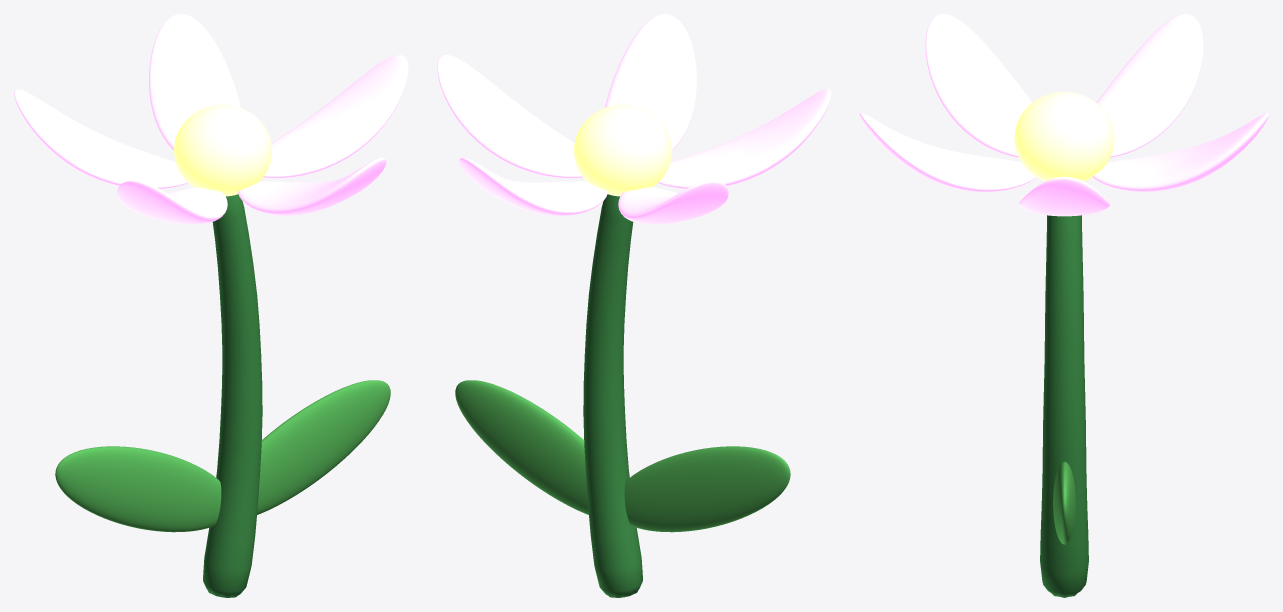
Rendered from star_bloom.glb.
3 renders of one model, left to right at view 1: azimuth 30°, elevation 25°; view 2: azimuth 150°, elevation 25°; view 3: azimuth 270°, elevation 25°, orthographic.
Visible parts, largest first — view 1: Stem, Leaf-1, Leaf1, PetalMesh0, PetalMesh1, Core, PetalMesh2, PetalMesh4, PetalMesh3; view 2: Stem, Leaf-1, Leaf1, PetalMesh0, PetalMesh4, Core, PetalMesh3, PetalMesh1, PetalMesh2; view 3: Stem, PetalMesh2, PetalMesh3, Core, PetalMesh4, PetalMesh1, PetalMesh0, Leaf1.
Boxes of the visible parts, left/top/right/bottom form: Stem: left=203, top=194, right=262, bottom=597; Leaf-1: left=55, top=446, right=221, bottom=532; Leaf1: left=257, top=380, right=390, bottom=514; PetalMesh0: left=263, top=55, right=408, bottom=178; PetalMesh1: left=149, top=14, right=240, bottom=150; Core: left=174, top=104, right=271, bottom=196; PetalMesh2: left=14, top=89, right=187, bottom=188; PetalMesh4: left=238, top=157, right=386, bottom=215; PetalMesh3: left=117, top=180, right=227, bottom=224; Stem: left=583, top=194, right=642, bottom=597; Leaf-1: left=624, top=446, right=790, bottom=532; Leaf1: left=455, top=380, right=588, bottom=514; PetalMesh0: left=437, top=55, right=582, bottom=178; PetalMesh4: left=605, top=14, right=696, bottom=150; Core: left=574, top=104, right=671, bottom=196; PetalMesh3: left=658, top=89, right=831, bottom=188; PetalMesh1: left=459, top=157, right=607, bottom=215; PetalMesh2: left=618, top=180, right=728, bottom=224; Stem: left=1040, top=215, right=1088, bottom=597; PetalMesh2: left=1096, top=14, right=1203, bottom=157; PetalMesh3: left=925, top=14, right=1032, bottom=157; Core: left=1014, top=91, right=1114, bottom=181; PetalMesh4: left=860, top=112, right=1036, bottom=191; PetalMesh1: left=1092, top=112, right=1268, bottom=191; PetalMesh0: left=1019, top=176, right=1109, bottom=216; Leaf1: left=1053, top=461, right=1075, bottom=544.
Size of the model in its own units: 1.77 by 2.4 by 1.77.
